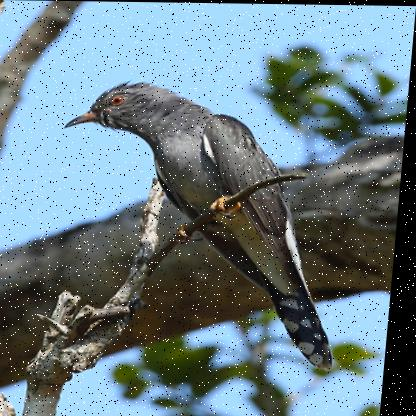Burung: (48, 79, 359, 369)
